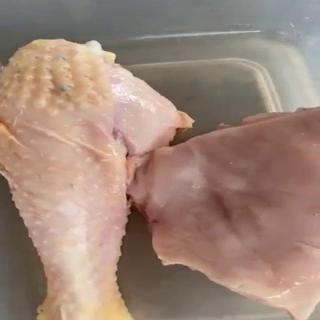Ayam: (1, 38, 197, 320), (127, 106, 320, 320)
